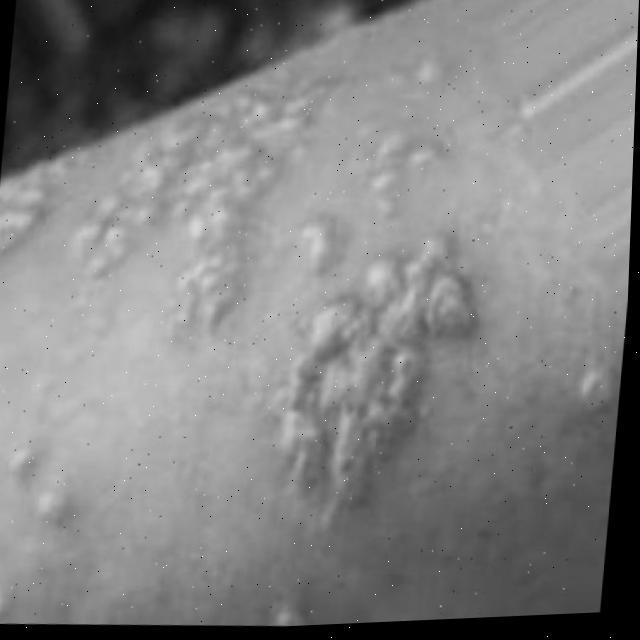Shingles: (0, 15, 495, 527), (577, 368, 613, 406), (280, 604, 313, 626)
